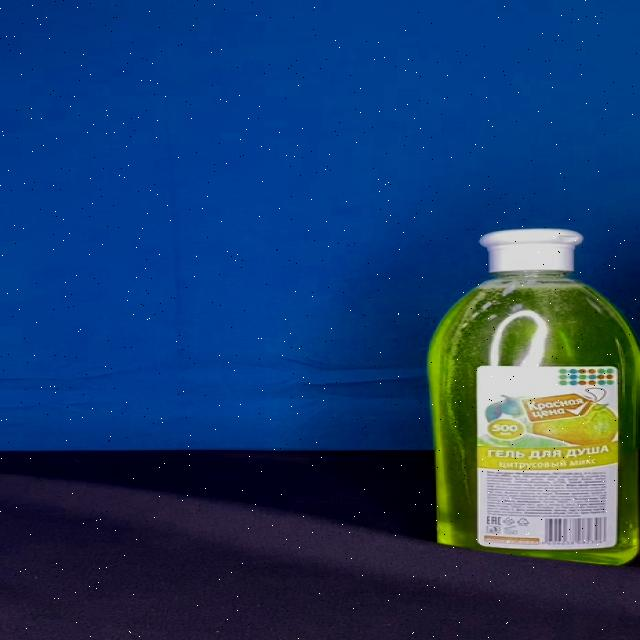Bottle: (427, 229, 640, 565)
Cap: (478, 230, 582, 272)
